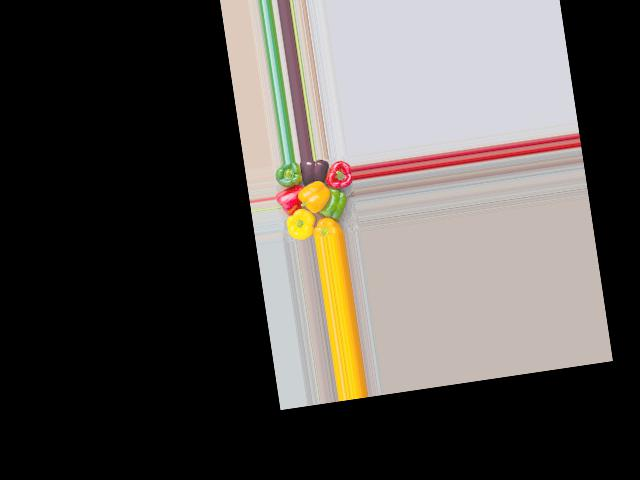bell_pepper: (311, 208, 350, 238)
